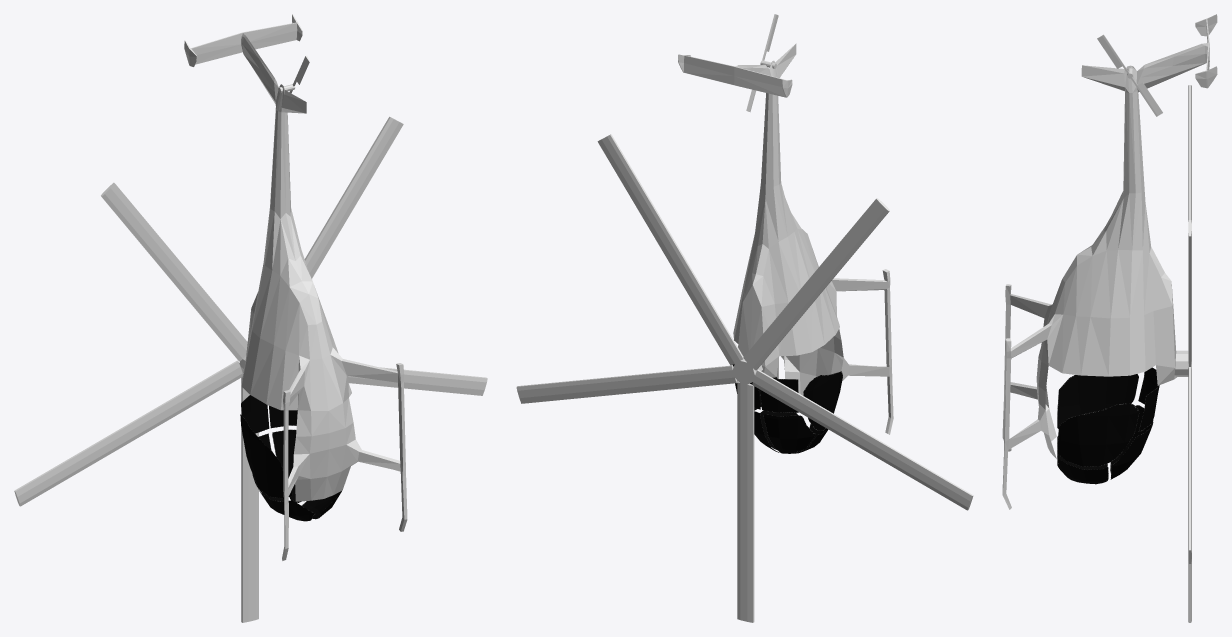
3 views of the same model, side by side, from view 1: azimuth 30°, elevation 25°; view 2: azimuth 150°, elevation 25°; view 3: azimuth 270°, elevation 25° (orthographic). The views are drawn at different scales.
Visible parts, largest first — view 1: HeliBody, MainRotor, HeliWindShield; view 2: MainRotor, HeliBody, HeliWindShield; view 3: HeliBody, HeliWindShield, MainRotor, TailRotor.
Part boxes in pixels (x1,y1,x2,y2): HeliBody: [184, 14, 407, 560]; MainRotor: [14, 116, 487, 622]; HeliWindShield: [240, 395, 341, 521]; MainRotor: [516, 134, 973, 622]; HeliBody: [678, 43, 893, 434]; HeliWindShield: [733, 364, 842, 453]; HeliBody: [1002, 14, 1217, 509]; HeliWindShield: [1057, 367, 1159, 484]; MainRotor: [1174, 85, 1191, 622]; TailRotor: [1097, 34, 1162, 116].
Bounding box in the file's own units: 10.2 × 4.04 × 12.25.
Materials: 1 (1 with a texture image).
